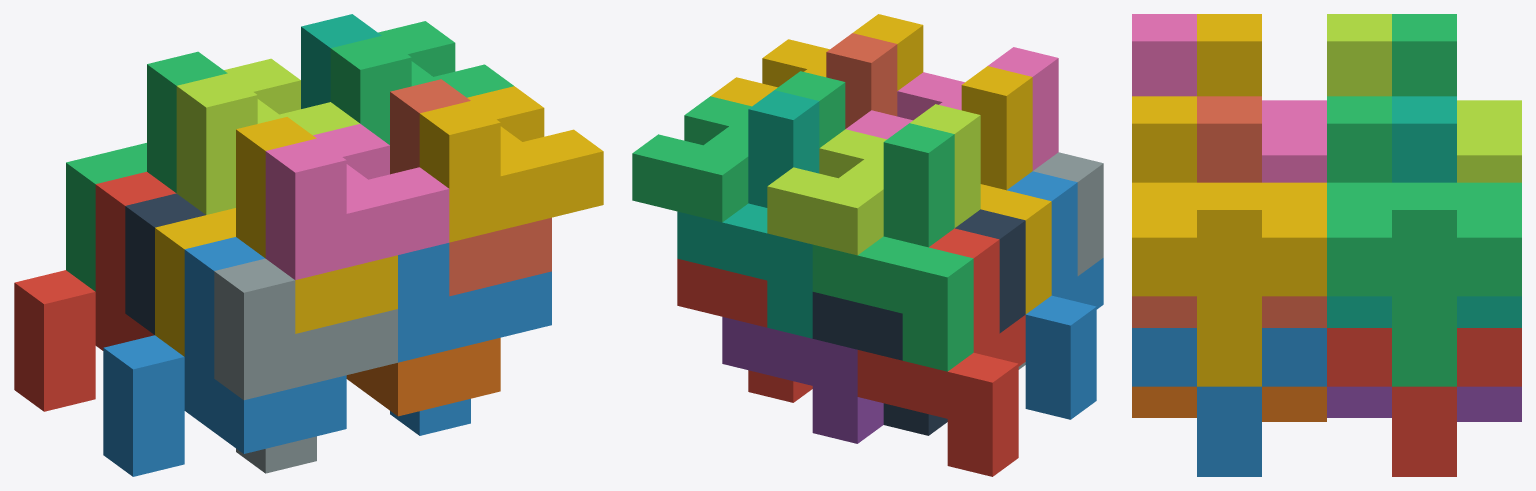
The model's file is tiling.obj.
3 renders of one model, left to right at view 1: azimuth 30°, elevation 25°; view 2: azimuth 150°, elevation 25°; view 3: azimuth 270°, elevation 25°, orthographic. The views are drawn at different scales.
Visible parts, largest first — view 1: copy_1_domain_2, copy_2_domain_4, copy_2_domain_8, copy_2_domain_2, copy_1_domain_1, copy_1_domain_4, copy_2_domain_6, copy_2_domain_3, copy_2_domain_7, copy_1_domain_3, copy_1_domain_8, copy_1_domain_6 (+2 smaller); view 2: copy_1_domain_3, copy_1_domain_1, copy_1_domain_7, copy_2_domain_3, copy_2_domain_7, copy_1_domain_2, copy_1_domain_4, copy_1_domain_5, copy_2_domain_1, copy_2_domain_4, copy_2_domain_8, copy_2_domain_5 (+2 smaller); view 3: copy_2_domain_7, copy_2_domain_8, copy_2_domain_5, copy_2_domain_6, copy_2_domain_3, copy_2_domain_4, copy_1_domain_7, copy_1_domain_8, copy_1_domain_3, copy_1_domain_4, copy_1_domain_5, copy_1_domain_6.
Boxes of the visible parts, box(x1,y1,x2,y2) form: copy_1_domain_2: box(103, 237, 346, 476); copy_2_domain_4: box(265, 123, 449, 280); copy_2_domain_8: box(419, 86, 603, 242); copy_2_domain_2: box(214, 258, 397, 473); copy_1_domain_1: box(14, 171, 176, 411); copy_1_domain_4: box(155, 117, 397, 356); copy_2_domain_6: box(390, 243, 551, 435); copy_2_domain_3: box(176, 58, 359, 214); copy_2_domain_7: box(330, 21, 513, 144); copy_1_domain_3: box(66, 51, 227, 291); copy_1_domain_8: box(390, 79, 551, 296); copy_1_domain_6: box(346, 337, 500, 416); copy_1_domain_3: box(812, 123, 973, 371); copy_1_domain_1: box(857, 228, 1025, 476); copy_1_domain_7: box(677, 90, 819, 338); copy_2_domain_3: box(767, 104, 980, 255); copy_2_domain_7: box(632, 71, 845, 222); copy_1_domain_2: box(1007, 171, 1103, 419); copy_1_domain_4: box(961, 66, 1051, 313); copy_1_domain_5: box(722, 317, 883, 443); copy_2_domain_1: box(812, 209, 1025, 435); copy_2_domain_4: box(846, 47, 1058, 170); copy_2_domain_8: box(710, 14, 923, 106); copy_2_domain_5: box(677, 258, 812, 402); copy_2_domain_7: box(1327, 96, 1521, 386); copy_2_domain_8: box(1132, 96, 1326, 386); copy_2_domain_5: box(1327, 328, 1521, 476); copy_2_domain_6: box(1132, 328, 1326, 476); copy_2_domain_3: box(1327, 14, 1521, 182); copy_2_domain_4: box(1132, 14, 1326, 182); copy_1_domain_7: box(1327, 96, 1521, 327); copy_1_domain_8: box(1132, 96, 1326, 327); copy_1_domain_3: box(1392, 14, 1456, 96); copy_1_domain_4: box(1197, 14, 1261, 96); copy_1_domain_5: box(1327, 386, 1521, 421); copy_1_domain_6: box(1132, 386, 1326, 421).
Bounding box in the file's own units: 8 × 6 × 6.
